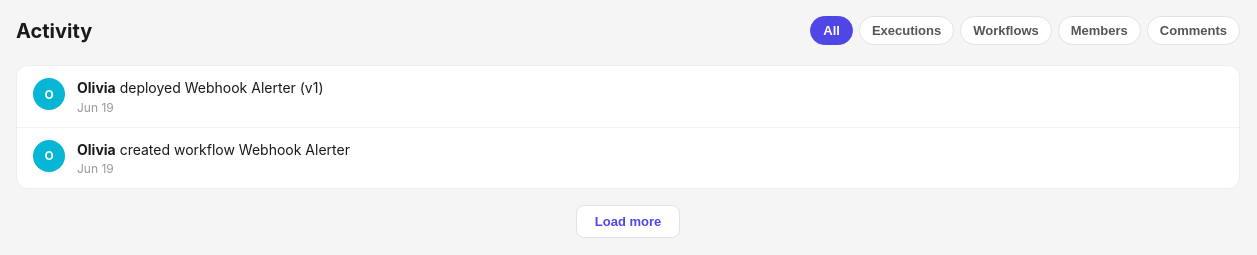
Test case: ActivityPage › refetches with the category filter when a tab is clicked
This screenshot has width=1257, height=255.
Click the button "Members" at (1099, 30), box [1058,16,1141,45]
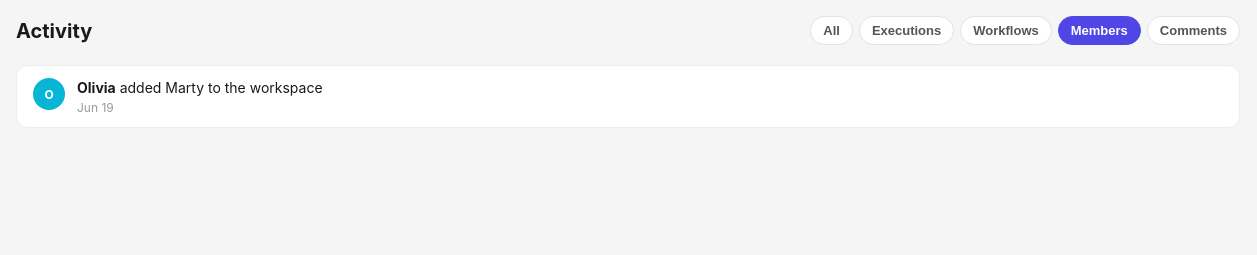
expect the text "added Marty to the workspace" is shown: met, box [120,79,323,96]
